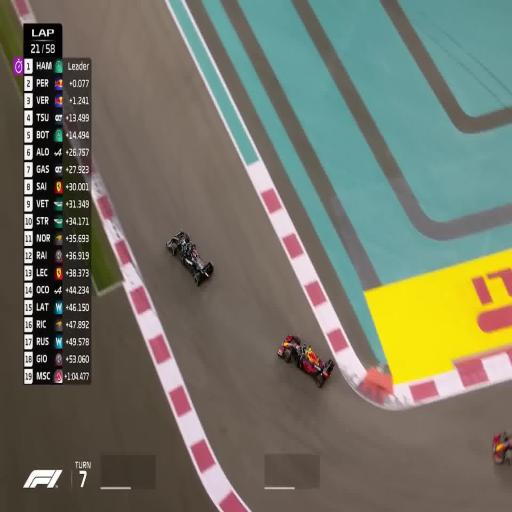f1_car: (278, 334, 334, 387), (166, 230, 213, 285)
